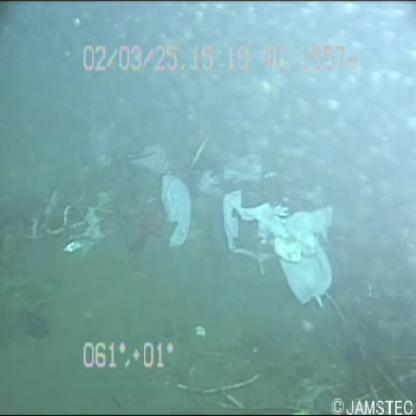Rác: (216, 180, 339, 319), (144, 161, 202, 268)
